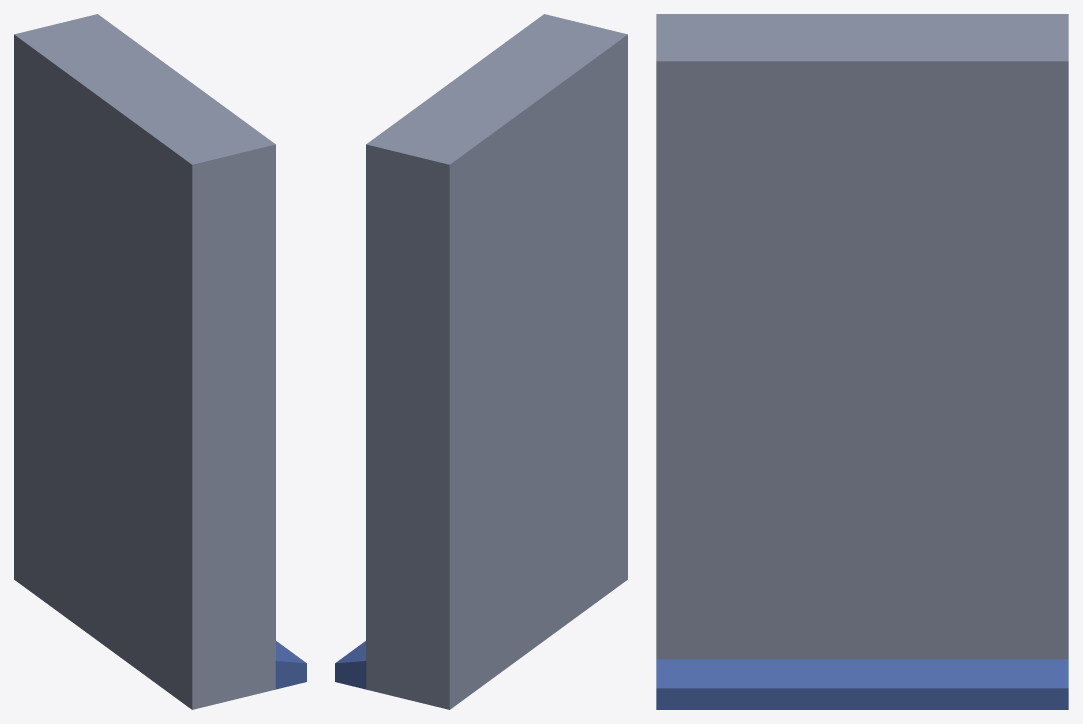
Rendered from normal-wall.fbx.
The picture shows the model from 3 angles, left to right: view 1: azimuth 30°, elevation 25°; view 2: azimuth 150°, elevation 25°; view 3: azimuth 270°, elevation 25°; orthographic projection. The views are drawn at different scales.
Visible parts, largest first — view 1: normal-wall; view 2: normal-wall; view 3: normal-wall.
Boxes of the visible parts, x1=… form: normal-wall: x1=14, y1=14, x2=306, y2=709; normal-wall: x1=335, y1=14, x2=627, y2=709; normal-wall: x1=656, y1=14, x2=1068, y2=709.
Size of the model in its own units: 74.36 by 338 by 200.
